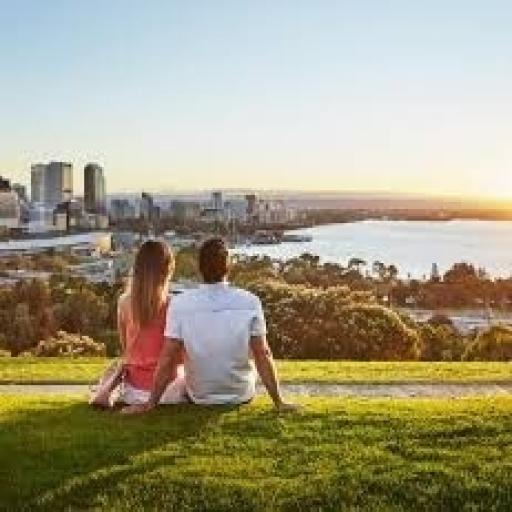sitting: (84, 230, 297, 418)
